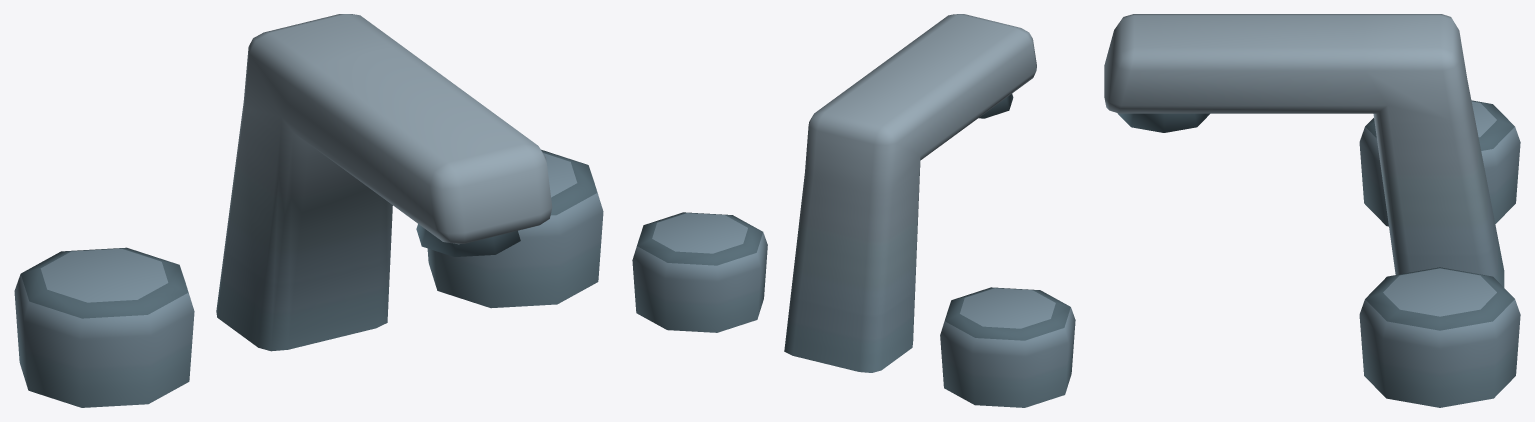
Rendered from Wash_Basin_05.glb.
3 renders of one model, left to right at view 1: azimuth 30°, elevation 25°; view 2: azimuth 150°, elevation 25°; view 3: azimuth 270°, elevation 25°, orthographic. The views are drawn at different scales.
Visible parts, largest first — view 1: Wash_Basin_05; view 2: Wash_Basin_05; view 3: Wash_Basin_05.
Boxes of the visible parts, left/top/right/bottom form: Wash_Basin_05: left=14, top=14, right=603, bottom=407; Wash_Basin_05: left=632, top=14, right=1075, bottom=407; Wash_Basin_05: left=1104, top=14, right=1520, bottom=407.
Bounding box in the file's own units: 0.2834 × 0.1418 × 0.2073.
1 material, 1 textured.
